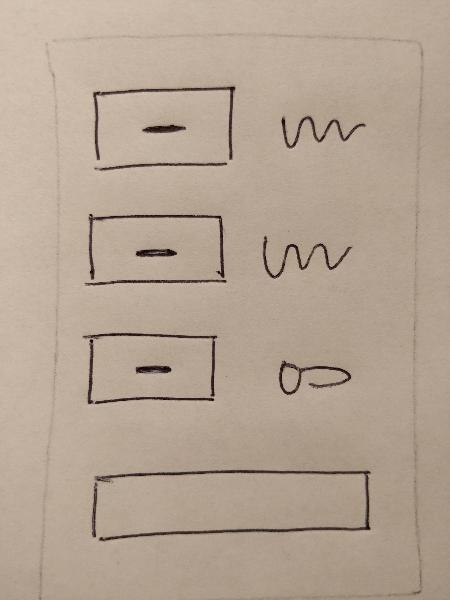button: (87, 82, 238, 175), (83, 204, 232, 296), (78, 327, 223, 416)
switch: (267, 351, 367, 408)
text: (255, 227, 356, 284), (270, 106, 372, 159)
text_input: (84, 463, 375, 550)
